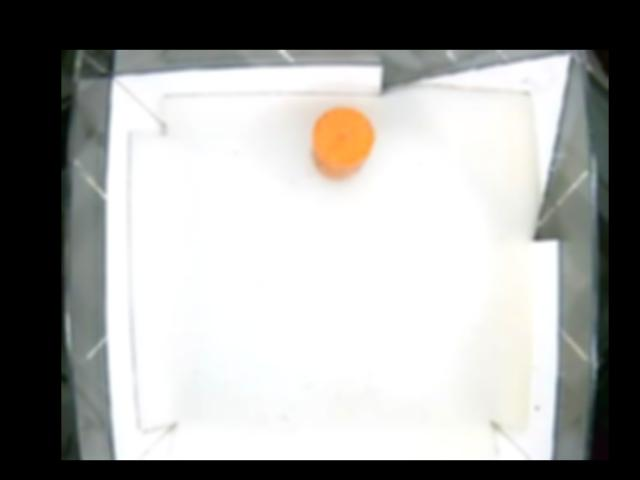Carrot: (312, 107, 373, 182)
